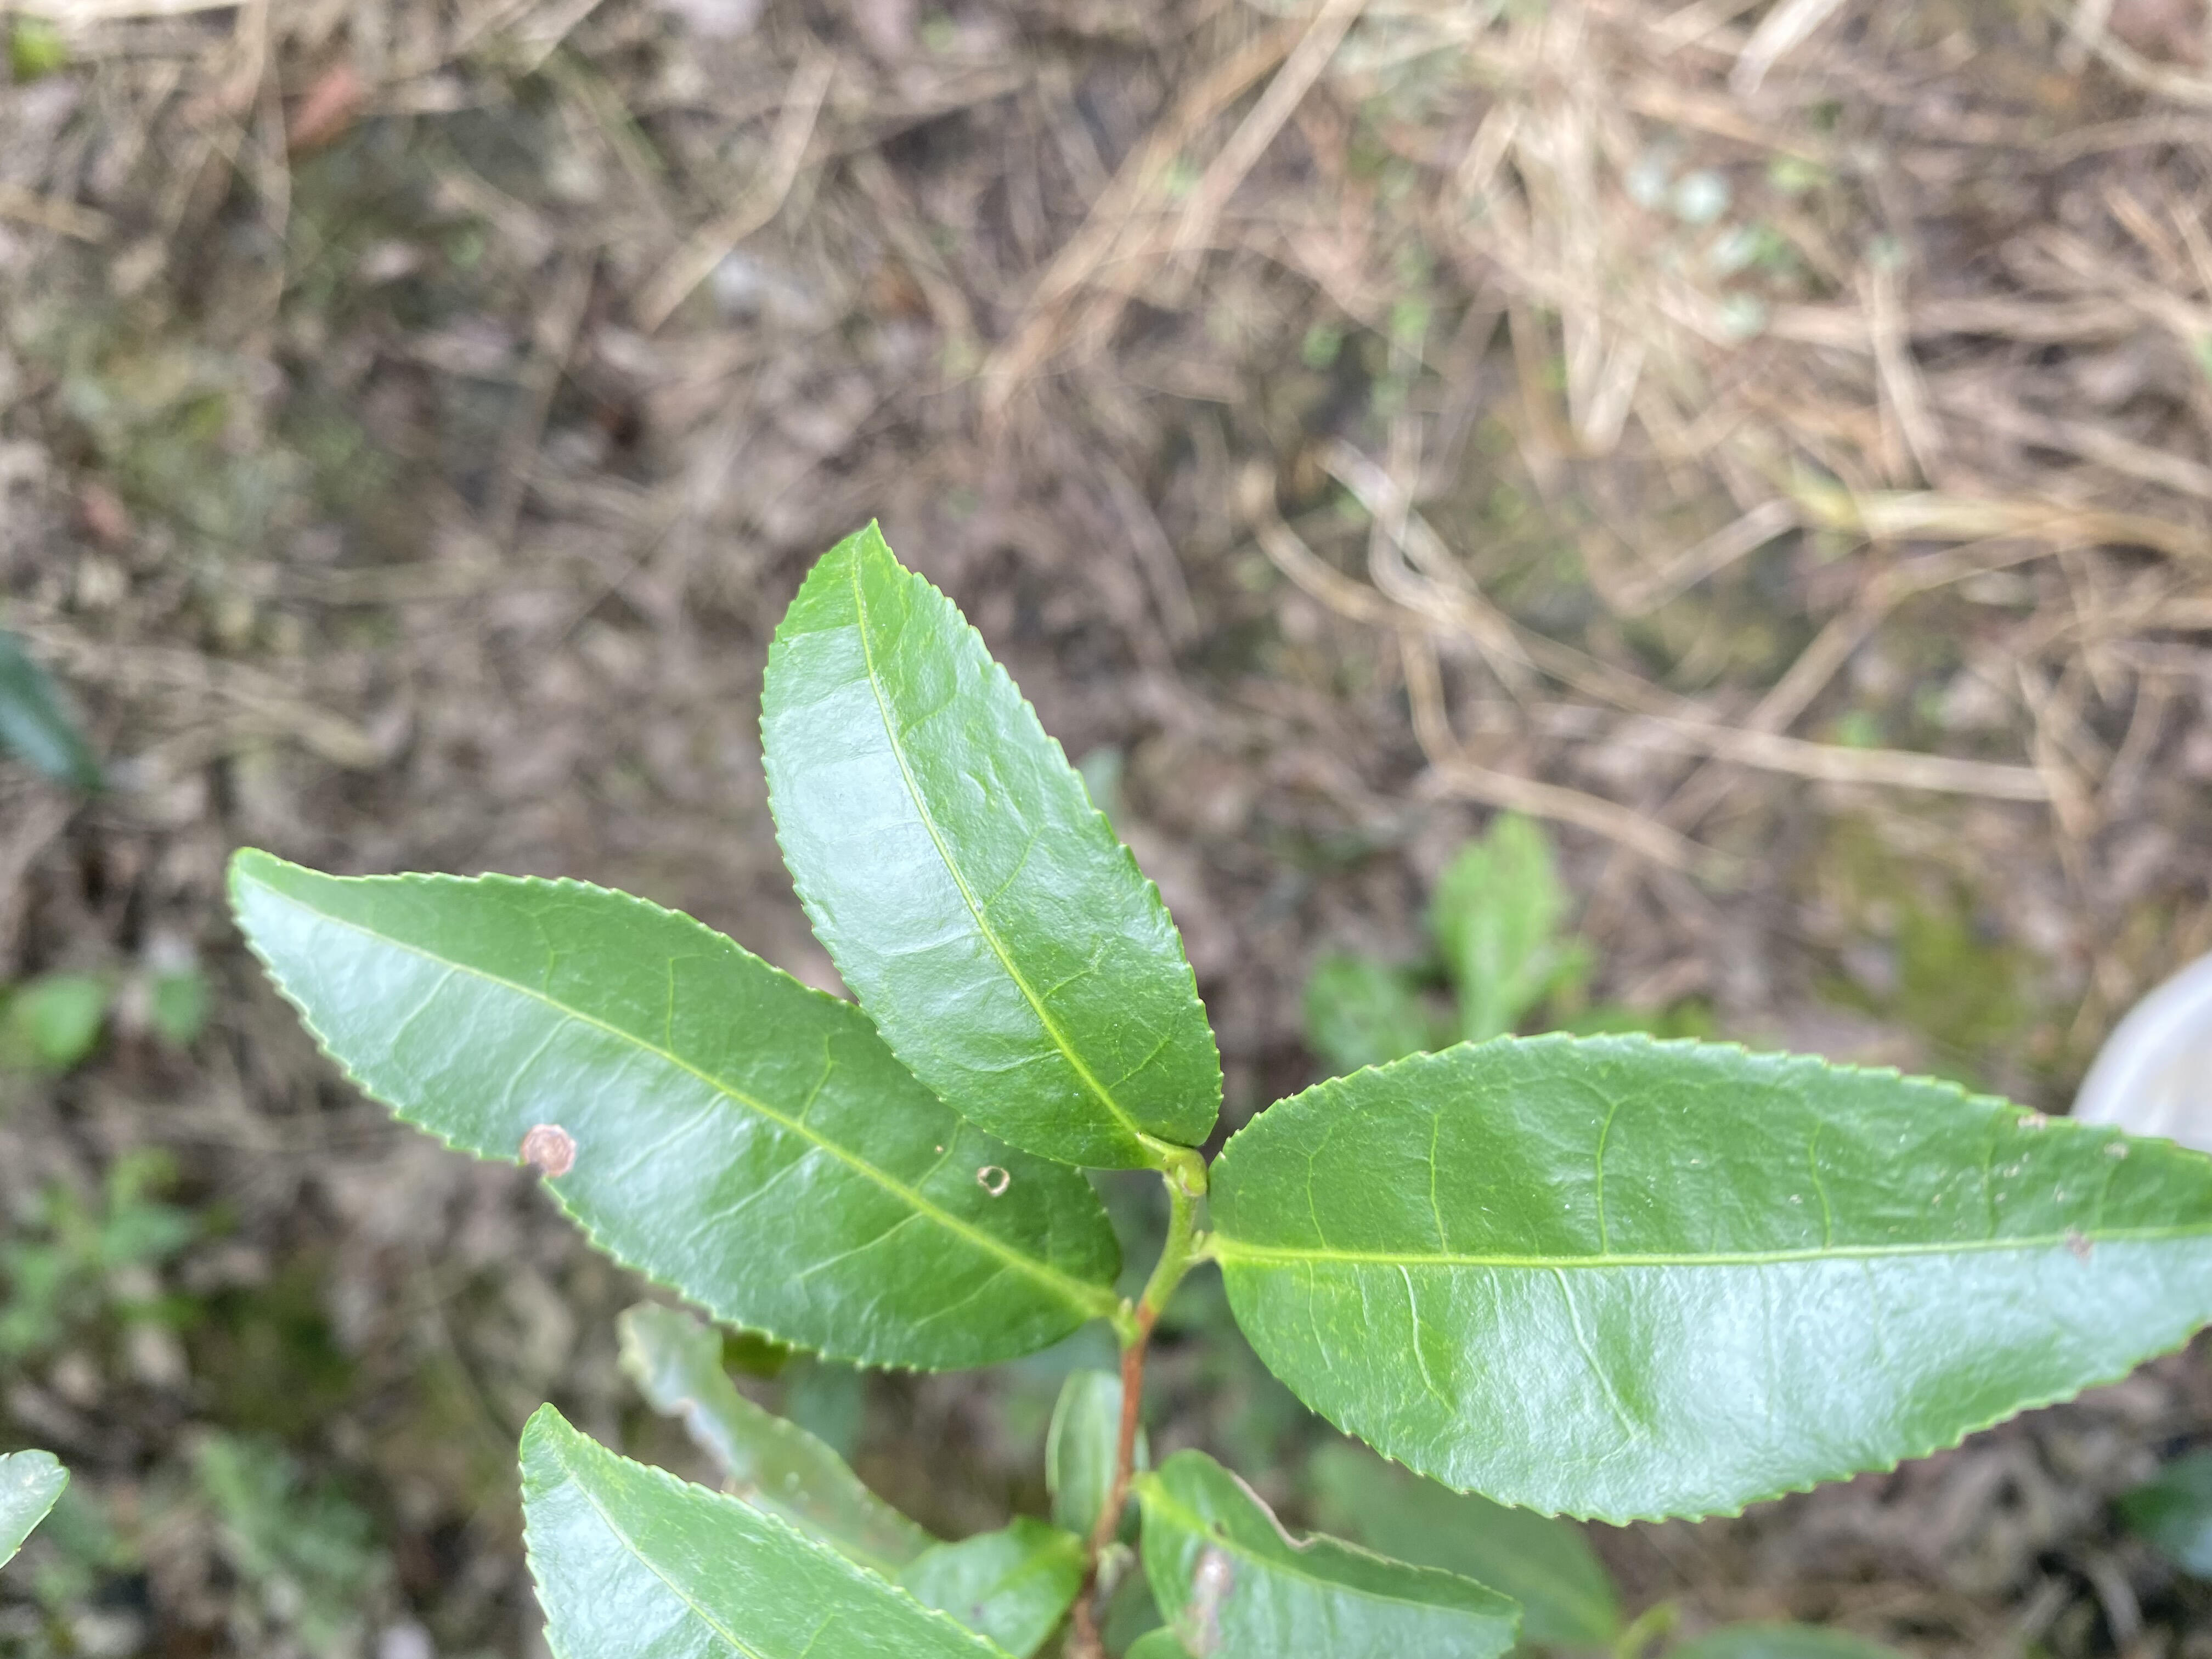healthy: (759, 514, 1226, 1171), (519, 1399, 1017, 1659)
tanju_high: (1130, 1448, 1521, 1654)
tanju_low: (1209, 1030, 2203, 1530)
